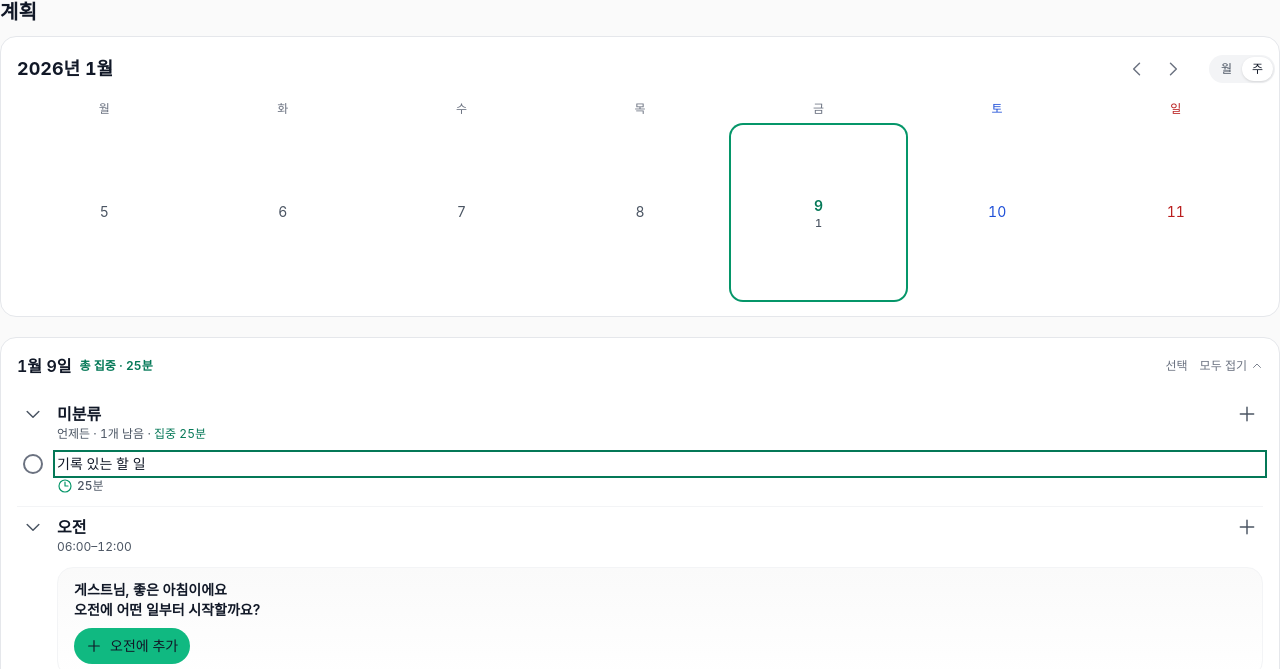
TodosPage › opens the session detail from the menu 집중 기록 item, one sheet at a time, and returns focus to the row
Click the button with aria-label "기록 있는 할 일 메뉴 열기" at (101, 463), box [57,454,1263,474]
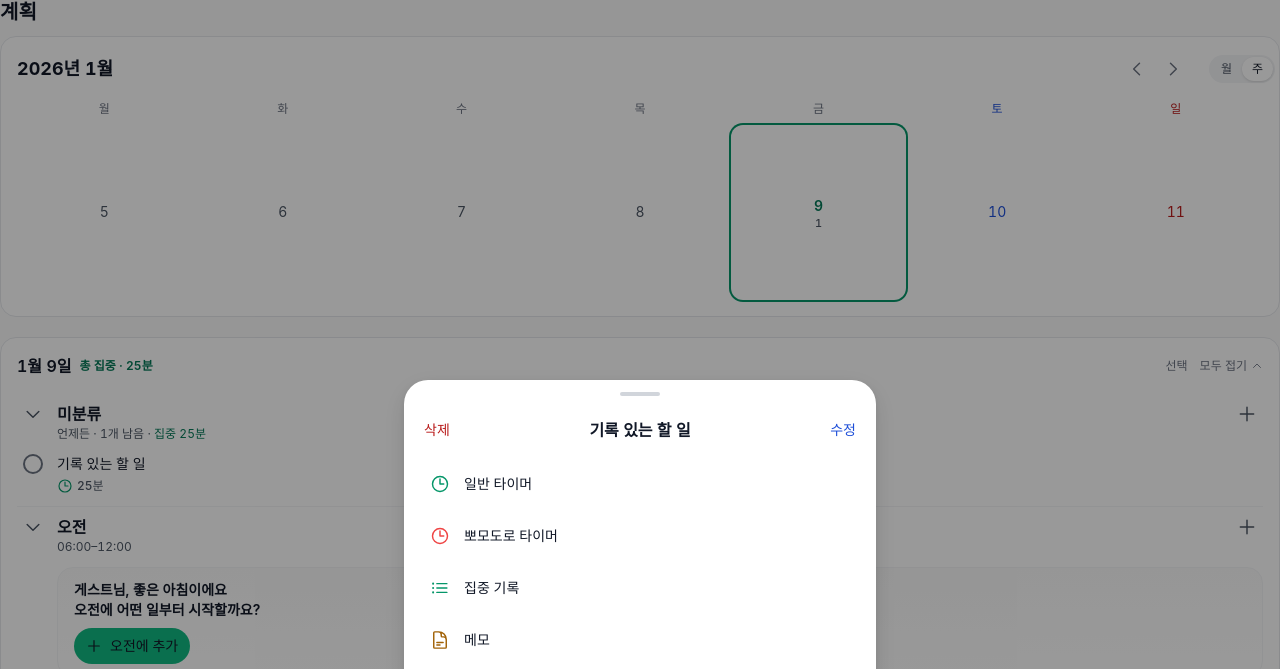
Click the button "집중 기록" at (492, 588), box [424,564,846,612]
Wait 700 ms
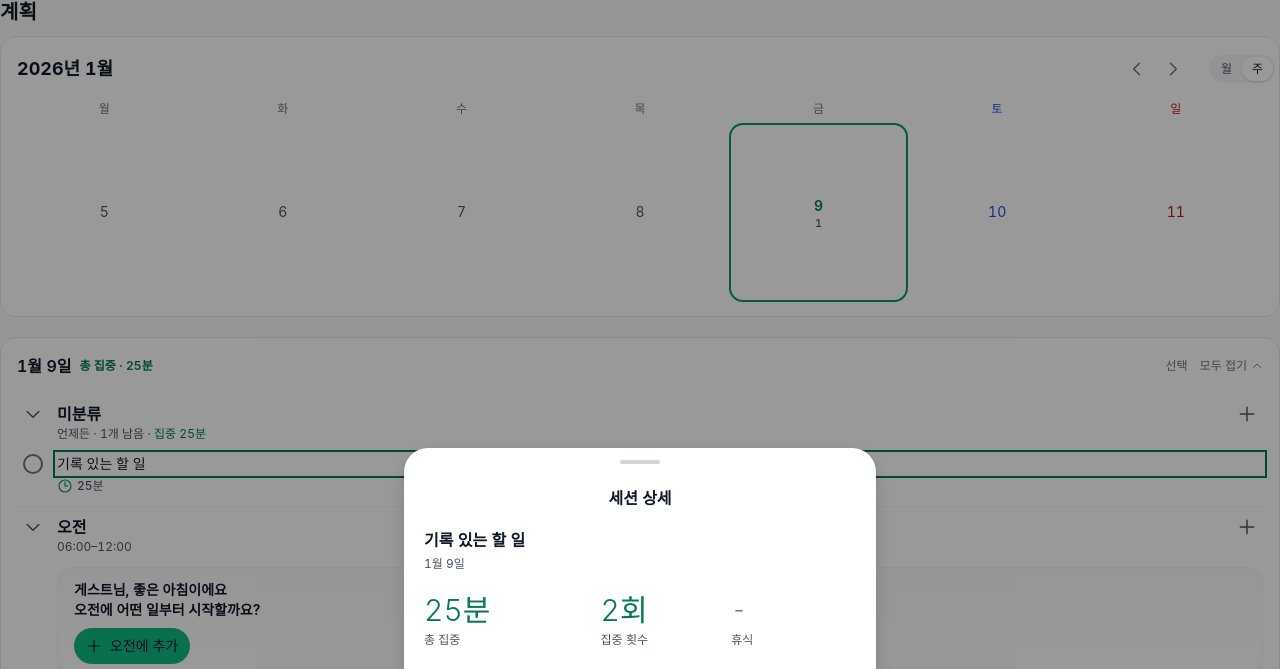
Result: the text "기록 있는 할 일" is shown at [424,530,525,550]
Result: the button "메모" is gone
Press Escape
Wait 700 ms
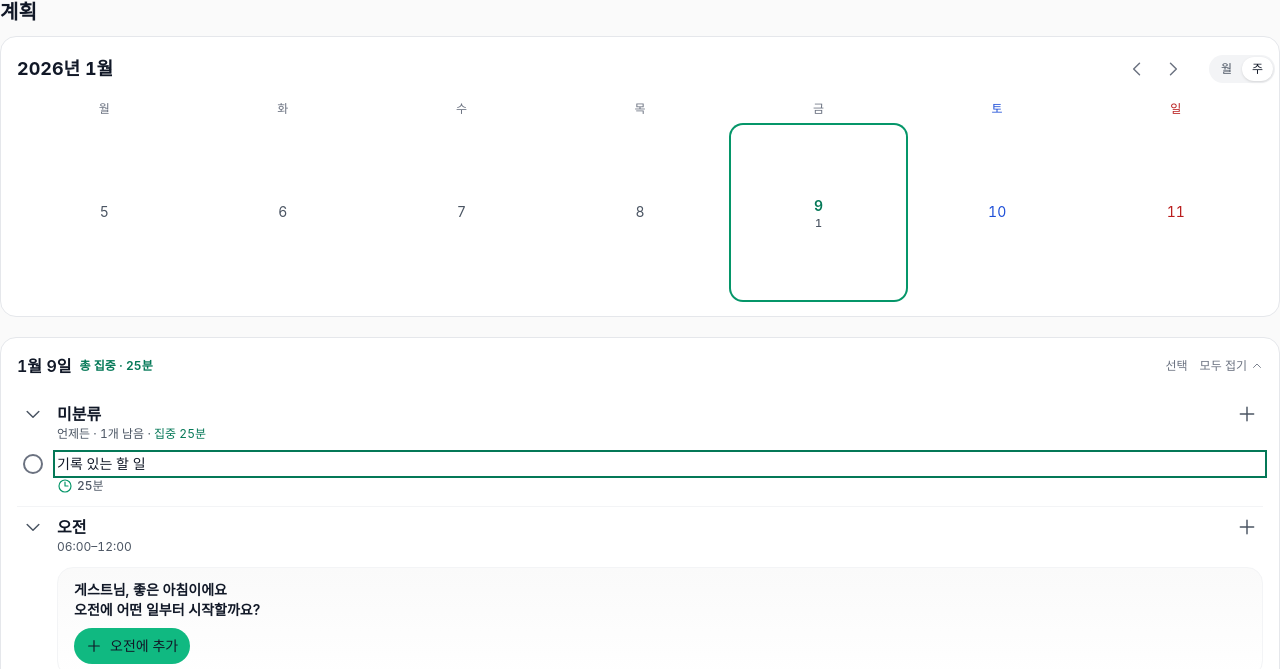
Result: the heading "세션 상세" is gone
